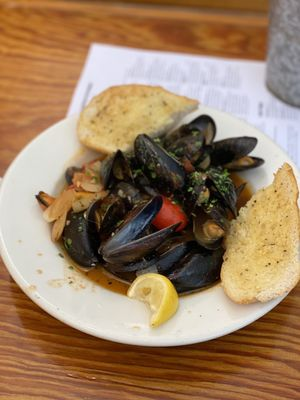curry: (0, 0, 297, 394)
